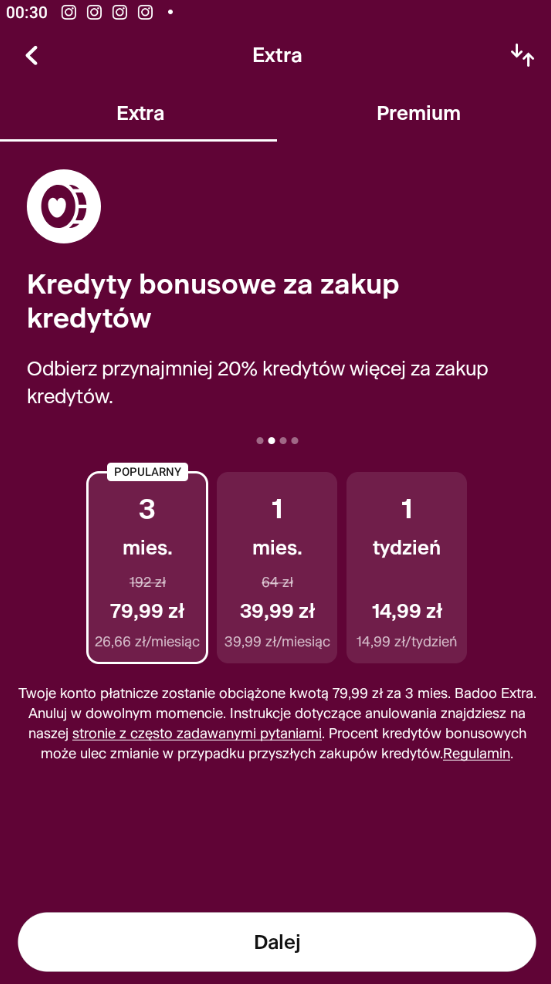kupno_button: (20, 907, 537, 974)
